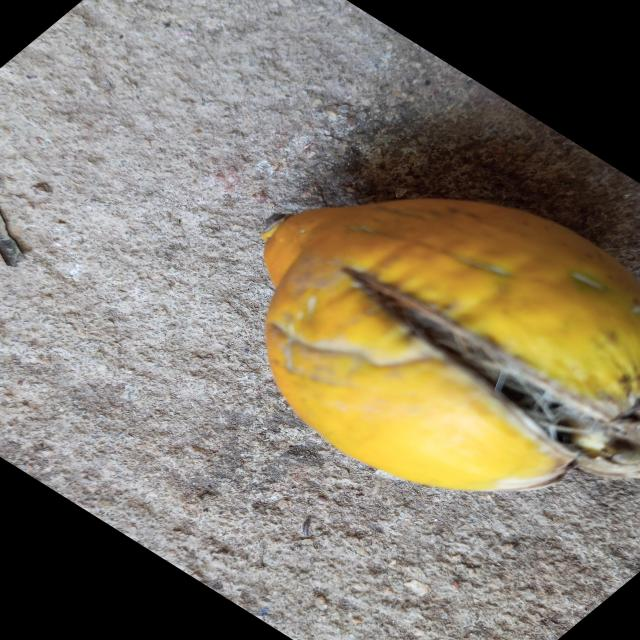damaged: (263, 199, 640, 495)
